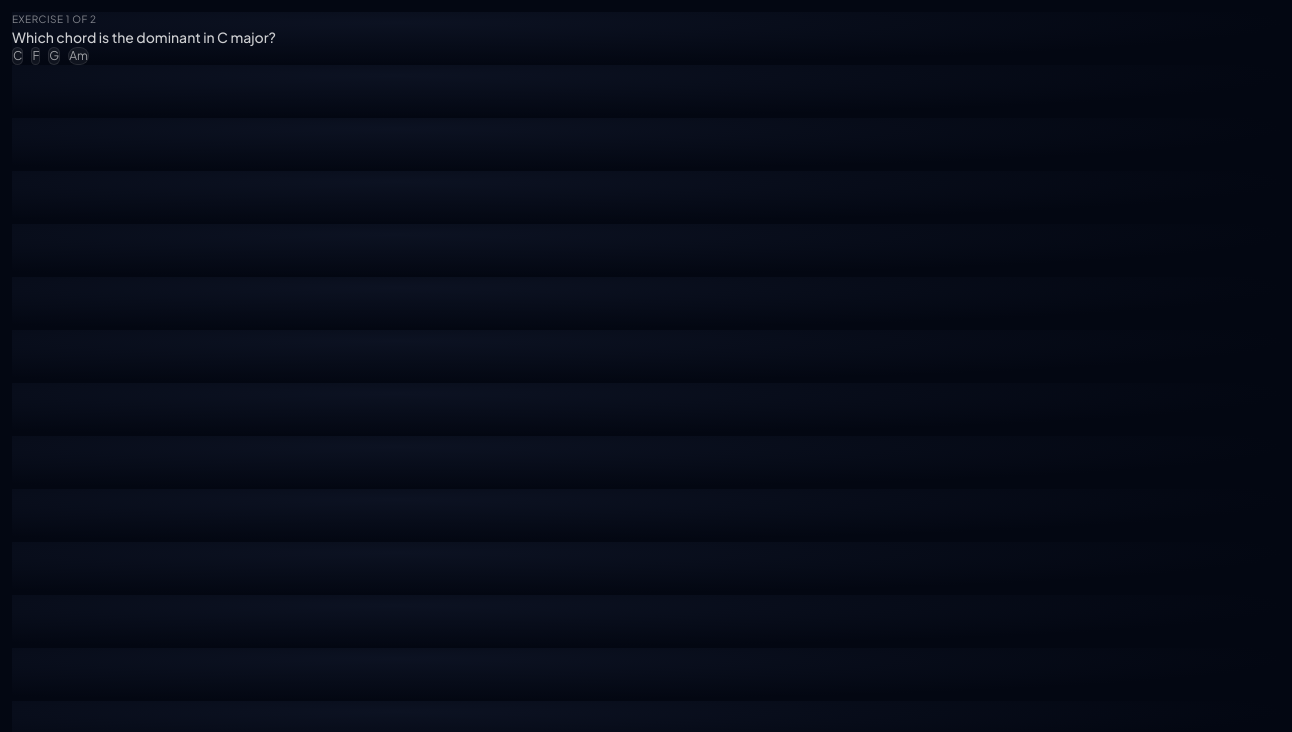
Test case: ExercisePanel › selecting wrong answer shows "Incorrect" and retry
Step 1. Click the button "F" → (36, 56), box [31, 47, 40, 65]
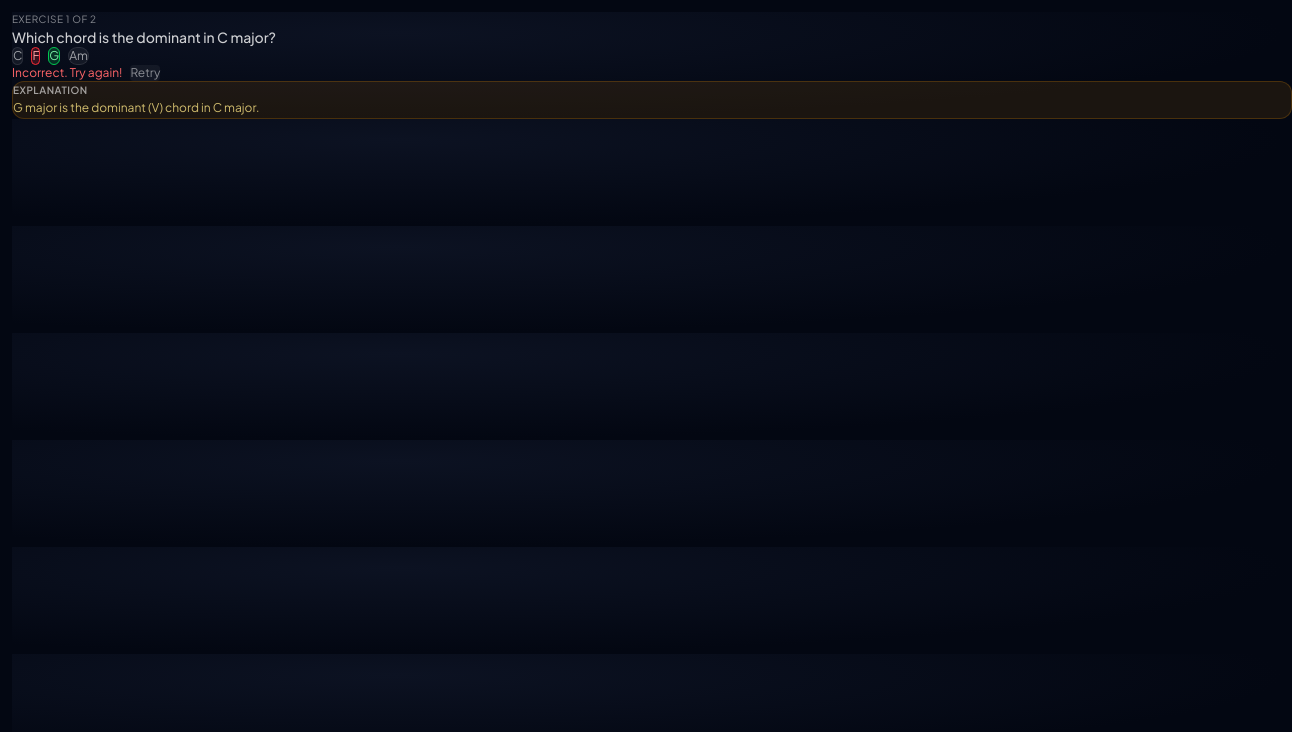
Result: the text "Incorrect. Try again!" is shown at [12, 65, 122, 81]
Result: the button "Retry" is shown at [130, 65, 160, 81]
